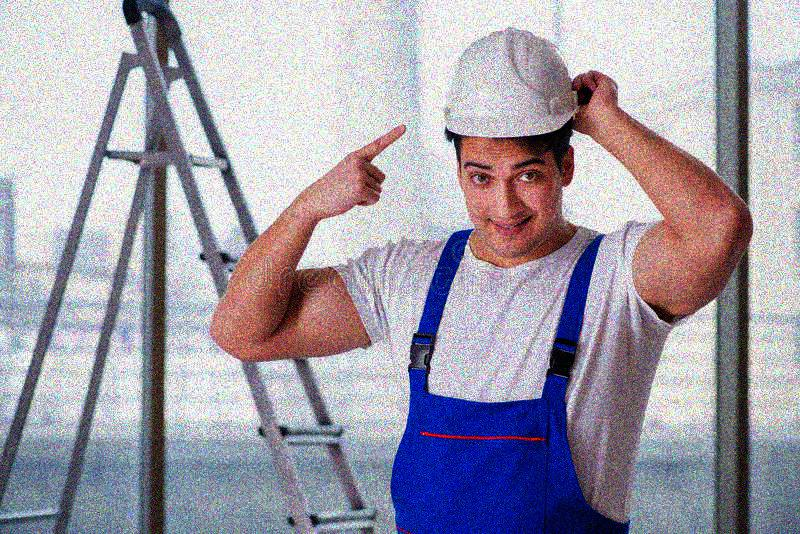helmet: (443, 26, 582, 263)
